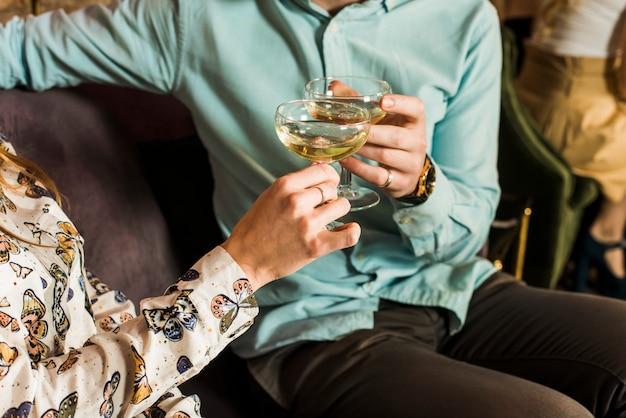alcohol: (302, 74, 394, 212), (272, 100, 373, 222)
